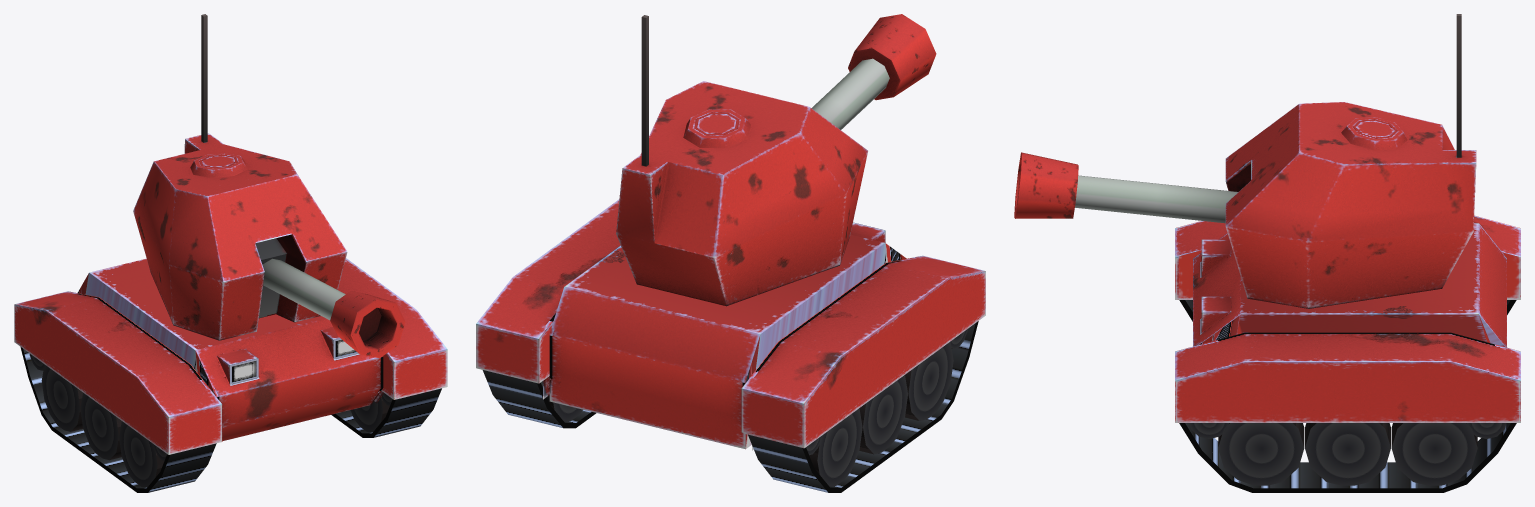
File: split tank.glb
The picture shows the model from 3 angles, left to right: view 1: azimuth 30°, elevation 25°; view 2: azimuth 150°, elevation 25°; view 3: azimuth 270°, elevation 25°; orthographic projection. The views are drawn at different scales.
Visible parts, largest first — view 1: Head, Right, Left, Cannon; view 2: Head, Right, Left, Cannon; view 3: Head, Left, Cannon, Right.
Boxes of the visible parts, x1,y1,x2,y2 form: Head: (77,14,383,441); Right: (14,291,222,492); Left: (331,258,447,437); Cannon: (262,258,405,358); Head: (549,15,906,449); Right: (741,255,985,492); Left: (476,199,620,428); Cannon: (811,14,936,129); Head: (1193,14,1506,347); Left: (1175,332,1520,492); Cannon: (1014,152,1237,223); Right: (1175,215,1520,321).
Size of the model in its own units: 2.08 by 2.65 by 2.92.
Materials: 2 (2 with a texture image).
